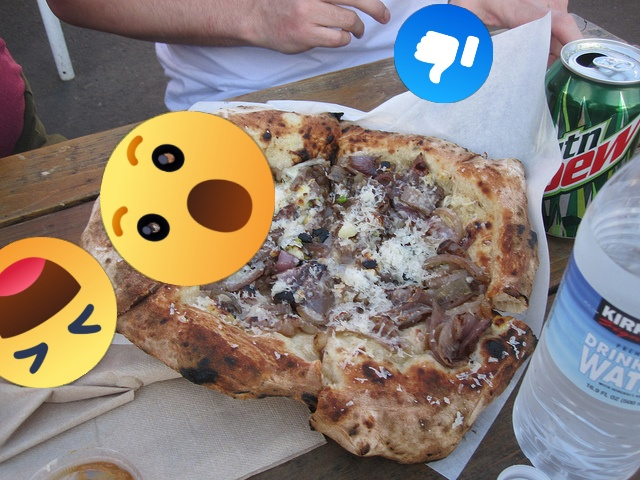haha: (0, 237, 117, 388)
like: (394, 4, 493, 103)
wow: (100, 111, 275, 286)
